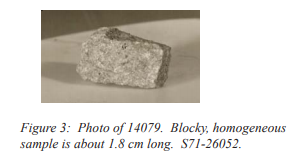Basalt: (68, 19, 175, 88)
